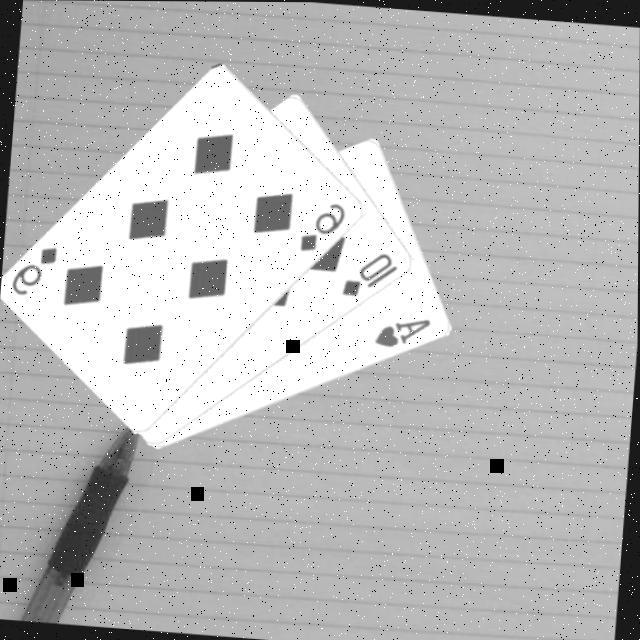10D: (337, 246, 400, 302)
6D: (294, 197, 348, 257), (6, 241, 60, 301)
AH: (368, 312, 432, 354)
